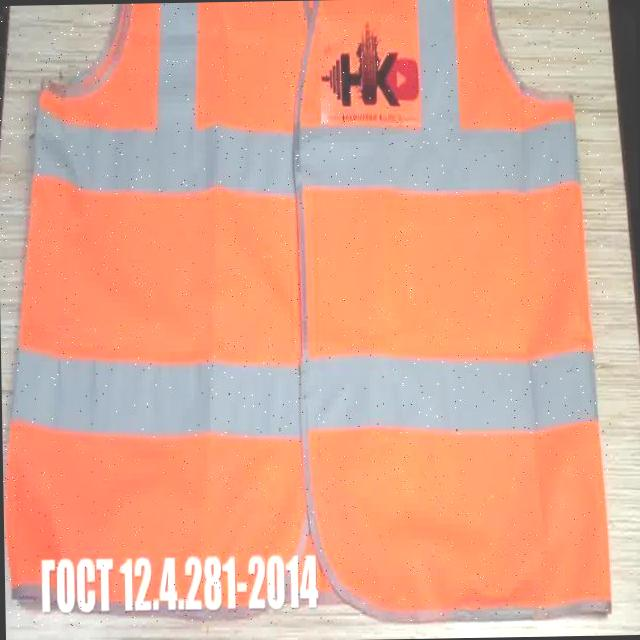vest: (0, 0, 614, 628)
